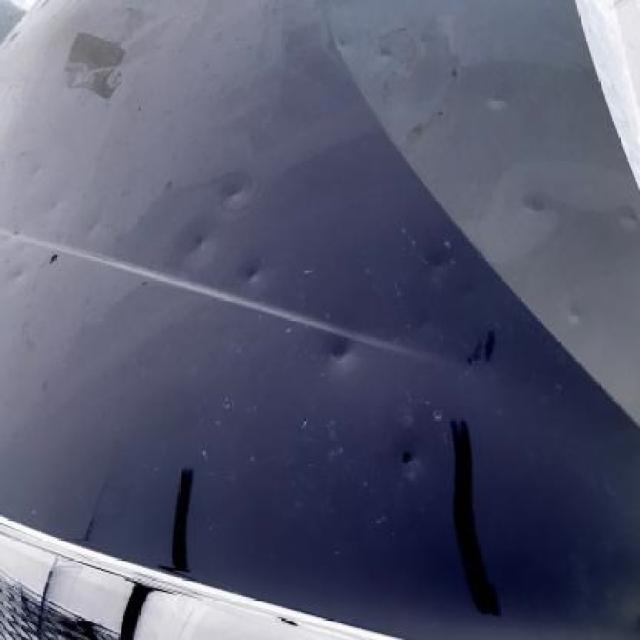dent: (180, 229, 209, 257), (612, 205, 640, 230), (328, 337, 353, 363), (398, 448, 420, 476), (222, 179, 250, 200), (414, 311, 437, 334), (520, 191, 545, 212), (423, 256, 452, 273), (240, 262, 263, 282), (568, 303, 587, 326), (486, 94, 508, 113), (9, 262, 28, 282), (48, 198, 64, 211)
